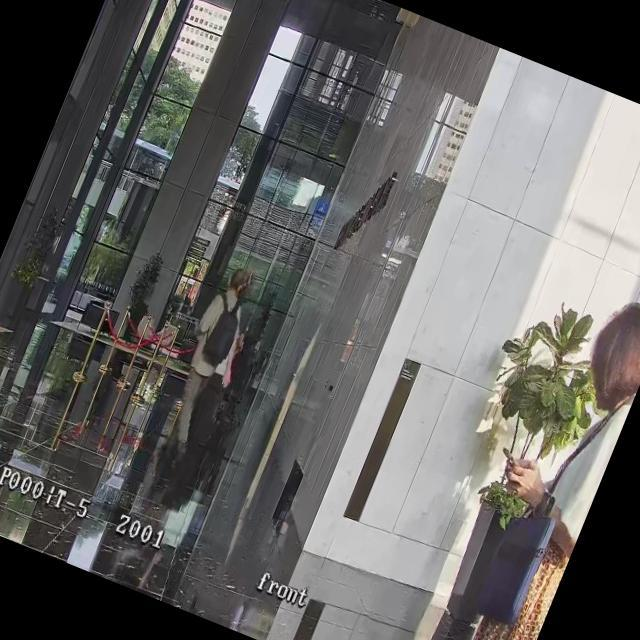person: (414, 278, 640, 640), (148, 256, 272, 464)
